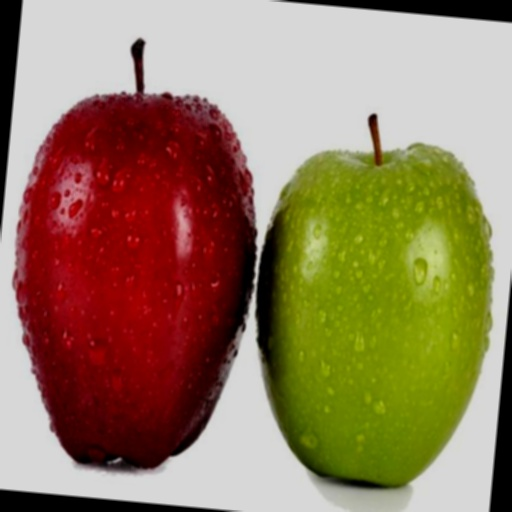fruit: (101, 130, 415, 512), (190, 61, 512, 197), (0, 110, 38, 401)
